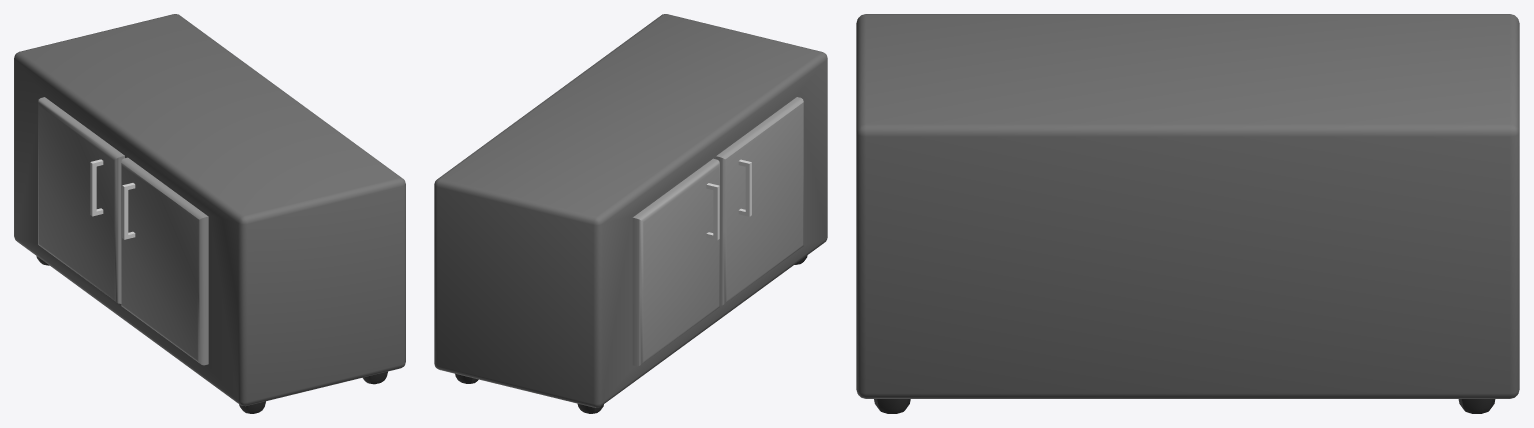
File: Aquarium Table.fbx
3 renders of one model, left to right at view 1: azimuth 30°, elevation 25°; view 2: azimuth 150°, elevation 25°; view 3: azimuth 270°, elevation 25°, orthographic. The views are drawn at different scales.
Parts seen in each view (by area): view 1: Aquarium Table; view 2: Aquarium Table; view 3: Aquarium Table.
Part boxes in pixels (x1=…): Aquarium Table: x1=14, y1=14, x2=405, y2=413; Aquarium Table: x1=434, y1=14, x2=827, y2=413; Aquarium Table: x1=856, y1=14, x2=1519, y2=413.
Size of the model in its own units: 0.5874 by 1.26 by 0.6247.
